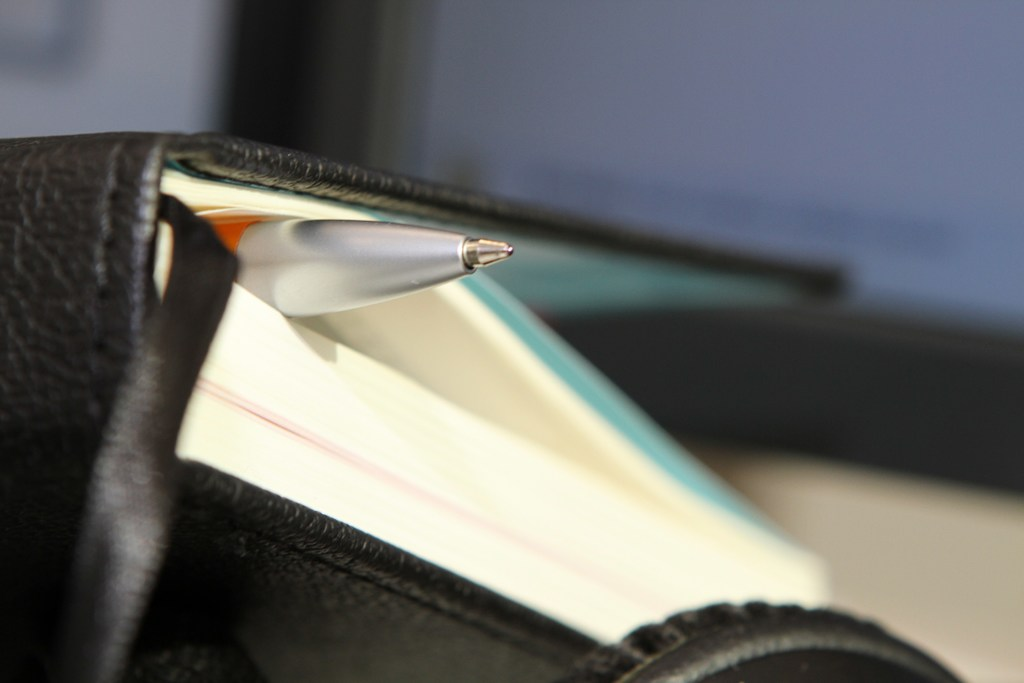Pen: (194, 213, 519, 306)
